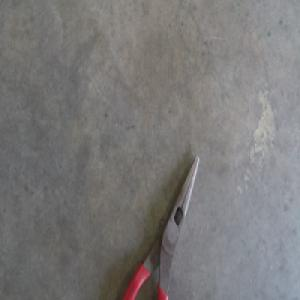Pliers: (123, 155, 199, 298)
